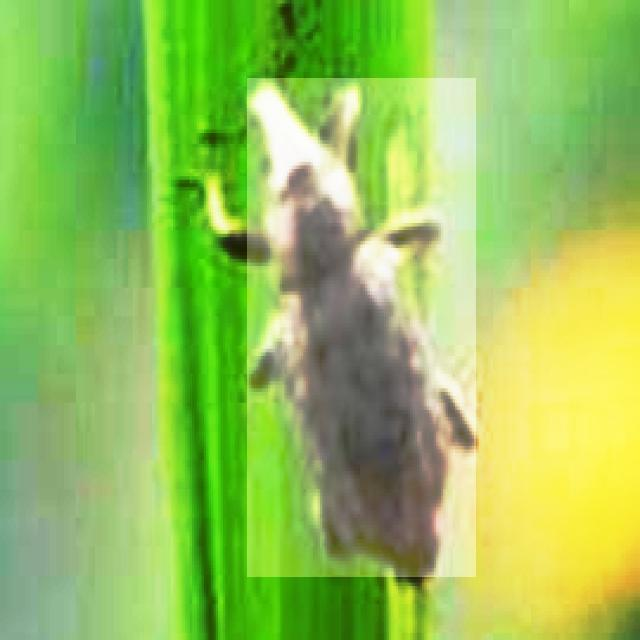rice-bug: (247, 78, 476, 577)
